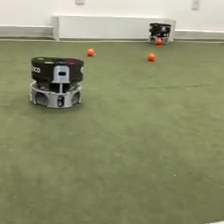ball: (85, 46, 95, 56), (146, 52, 156, 61), (155, 36, 163, 44)
goal: (51, 13, 177, 44)
robot: (28, 53, 86, 110), (148, 21, 173, 45)
